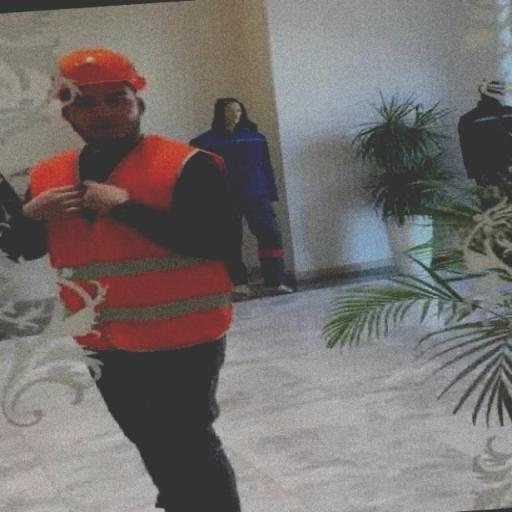Person: (0, 29, 296, 512)
helmet: (40, 45, 160, 94)
none: (16, 172, 90, 231), (74, 168, 145, 228)
vest: (27, 134, 242, 352)
